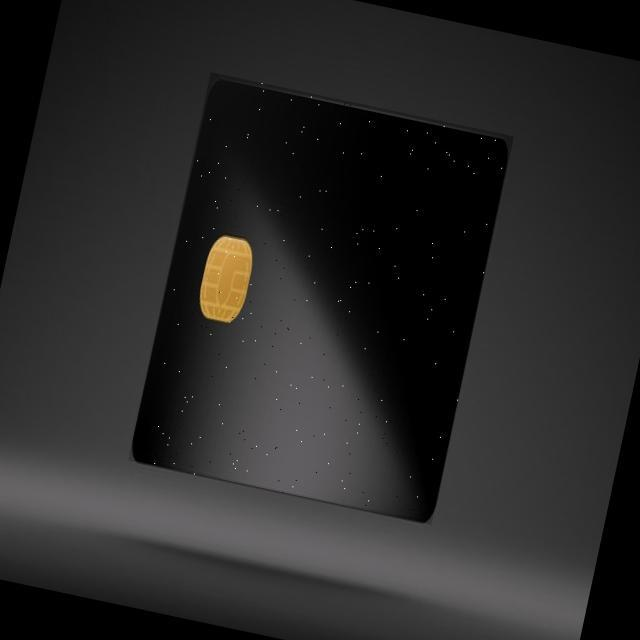payment_card: (130, 71, 513, 523)
